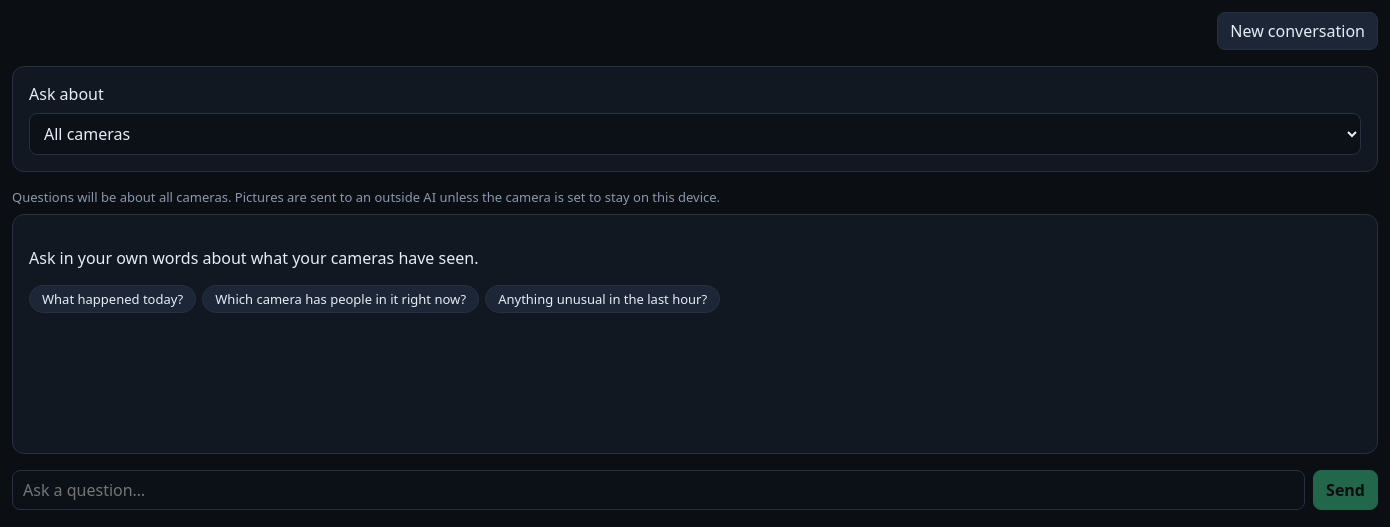
Test case: ChatPanel streaming › shows a plain-language error when the stream ends early
Step 1. Type "hi" into the field named "Your question" → coordinates (659, 490), box [12,470,1305,510]
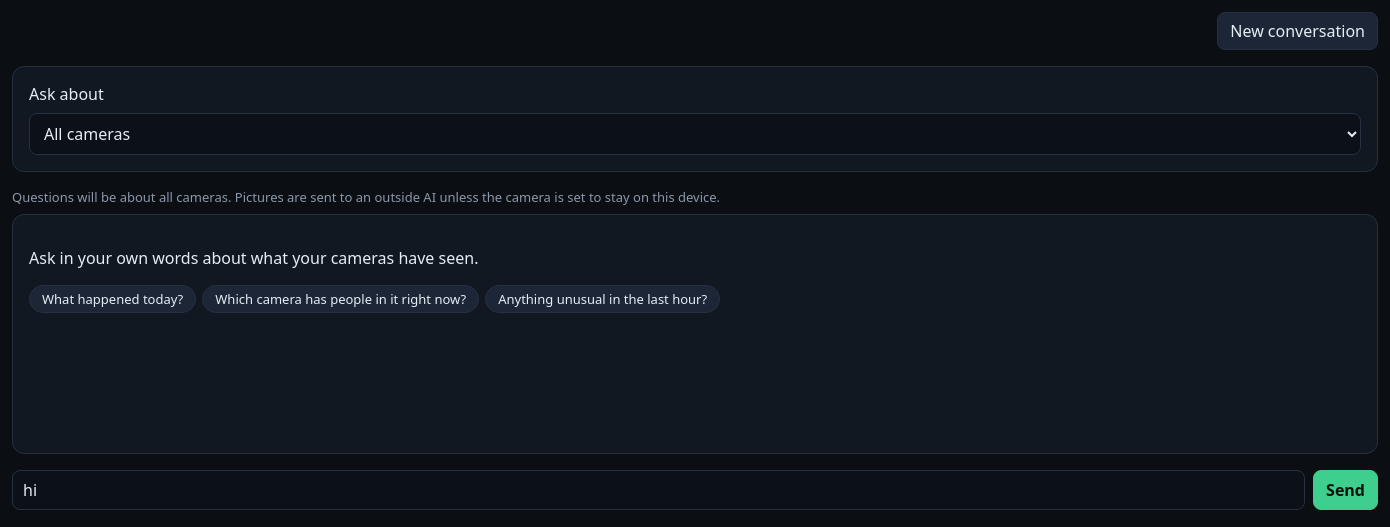
Step 2. Click the button "Send" → coordinates (1346, 490), box [1313,470,1378,510]
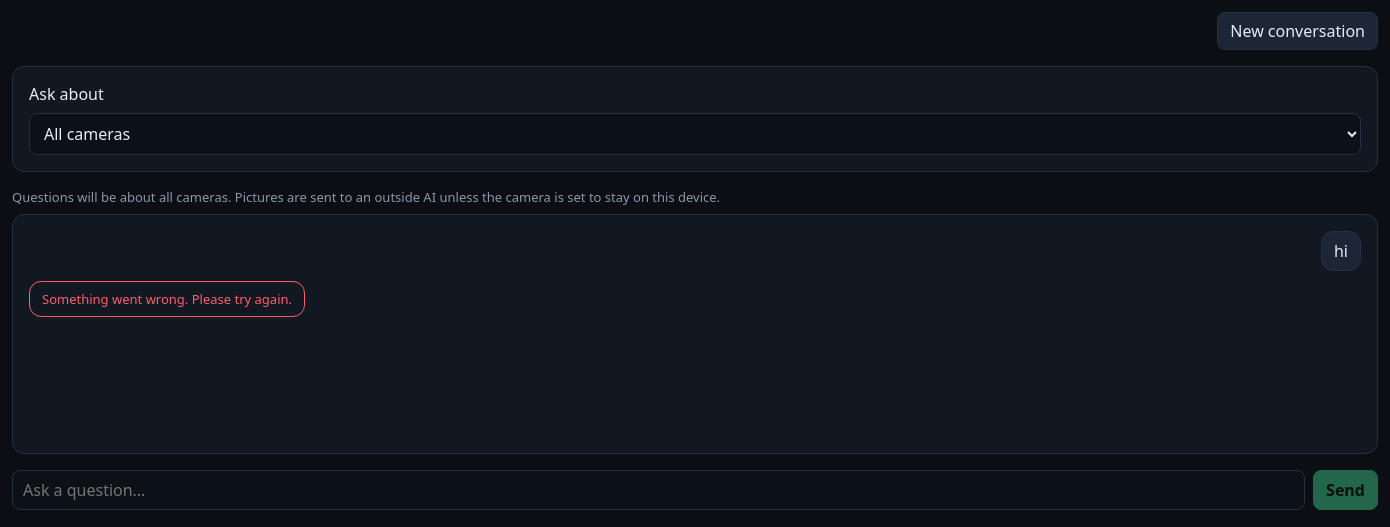
Result: the message shows "Something went wrong" at [42,290,292,308]
